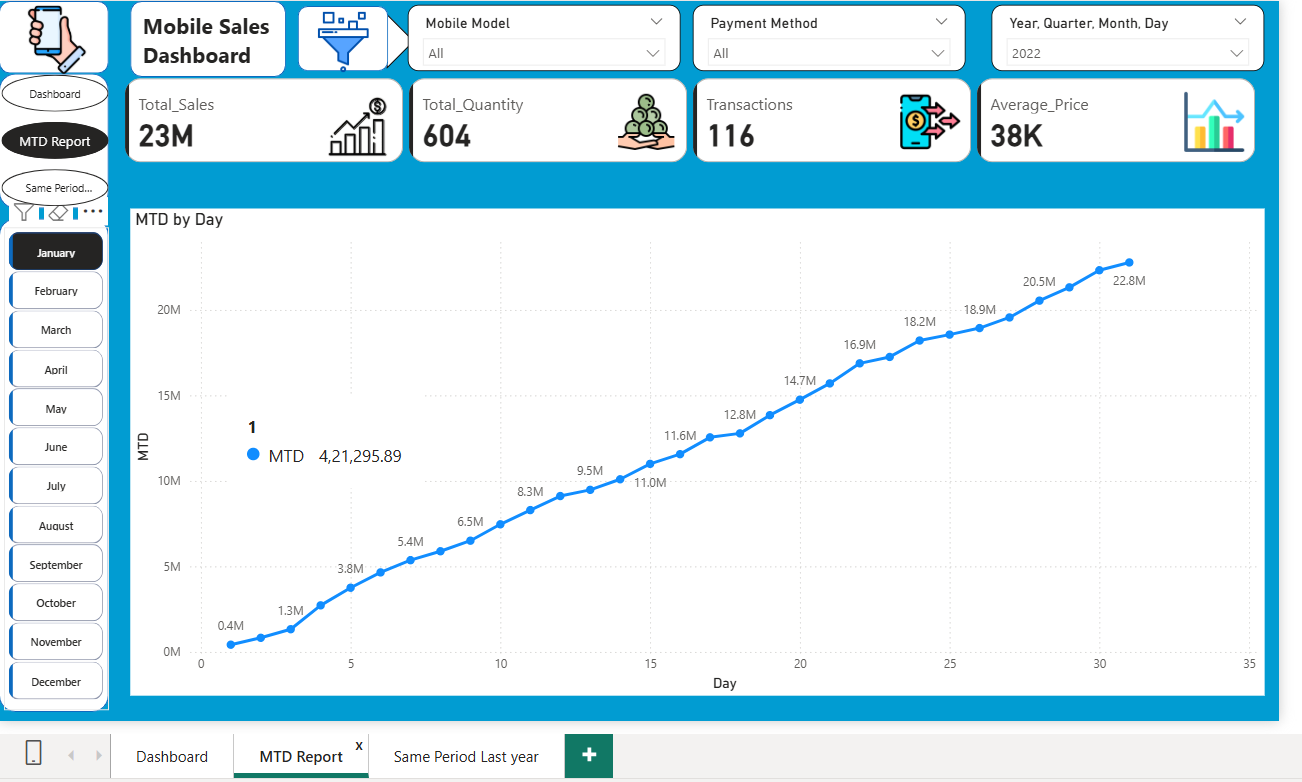

The page's visual inventory and layout, read from the dashboard file:
{"tool":"powerbi","page":{"name":"MTD Report","canvas":[1280,720],"ordinal":1},"visuals":[{"type":"shape","box":[0,0,109.8,72.4],"z":0},{"type":"shape","box":[0,72.4,109.8,135.1],"z":1000},{"type":"cardVisual","fields":{"Data":["Mobile_Sales.Total_Sales","Mobile_Sales.Total_Quantity","Mobile_Sales.Transactions","Mobile_Sales.Average_Price"]},"box":[121.9,72.4,1143.7,94.1],"z":2000},{"type":"shape","box":[355.9,12.1,59.1,55.5],"z":3000},{"type":"slicer","fields":{"Values":["Mobile_Sales.Mobile Model"]},"box":[409,3.6,272.7,66.4],"z":4000},{"type":"slicer","fields":{"Values":["Mobile_Sales.Payment Method"]},"box":[693.7,3.6,272.7,66.4],"z":5000},{"type":"slicer","fields":{"Values":["Custom_Calendar.Date.Variation.Date Hierarchy.Year","Custom_Calendar.Date.Variation.Date Hierarchy.Quarter","Custom_Calendar.Date.Variation.Date Hierarchy.Month","Custom_Calendar.Date.Variation.Date Hierarchy.Day"]},"box":[992.9,3.6,272.7,66.4],"z":6000},{"type":"shape","box":[299.2,4.8,90.5,65.1],"z":7000},{"type":"image","box":[296.8,4.8,95.3,72.4],"z":8000},{"type":"shape","box":[131.5,0,155.6,76],"z":9000},{"type":"textbox","box":[138.7,4.8,141.2,80.8],"z":10000},{"type":"lineChart","fields":{"Category":["Custom_Calendar.Date.Variation.Date Hierarchy.Year","Custom_Calendar.Date.Variation.Date Hierarchy.Quarter","Custom_Calendar.Date.Variation.Date Hierarchy.Month","Custom_Calendar.Date.Variation.Date Hierarchy.Day"],"Y":["Mobile_Sales.MTD"]},"box":[131.5,207.5,1134.1,487.4],"z":11000},{"type":"shape","box":[0,217.2,109.8,493.4],"z":12000},{"type":"advancedSlicerVisual","fields":{"Values":["Custom_Calendar.Date.Variation.Date Hierarchy.Month"]},"box":[4.8,226.8,105,483.8],"z":13000},{"type":"pageNavigator","box":[2.5,73.8,107.5,131.2],"z":13001},{"type":"image","box":[17.5,0,80,77.5],"z":13002}]}

Visuals, with their boxes on the page's 1280x720 design canvas (x1, y1, x2, y2). These are canvas units, not pixel positions in the 1302x782 screenshot, which may show the page scaled, cropped or inside an application window:
shape: detection(0, 0, 110, 72)
shape: detection(0, 72, 110, 208)
cardVisual - Mobile_Sales.Total_Sales x Mobile_Sales.Total_Quantity: detection(122, 72, 1266, 166)
shape: detection(356, 12, 415, 68)
slicer - Mobile_Sales.Mobile Model: detection(409, 4, 682, 70)
slicer - Mobile_Sales.Payment Method: detection(694, 4, 966, 70)
slicer - Custom_Calendar.Date.Variation.Date Hierarchy.Year x Custom_Calendar.Date.Variation.Date Hierarchy.Quarter: detection(993, 4, 1266, 70)
shape: detection(299, 5, 390, 70)
image: detection(297, 5, 392, 77)
shape: detection(132, 0, 287, 76)
textbox: detection(139, 5, 280, 86)
lineChart - Custom_Calendar.Date.Variation.Date Hierarchy.Year x Custom_Calendar.Date.Variation.Date Hierarchy.Quarter: detection(132, 208, 1266, 695)
shape: detection(0, 217, 110, 711)
advancedSlicerVisual - Custom_Calendar.Date.Variation.Date Hierarchy.Month: detection(5, 227, 110, 711)
pageNavigator: detection(2, 74, 110, 205)
image: detection(18, 0, 98, 78)
